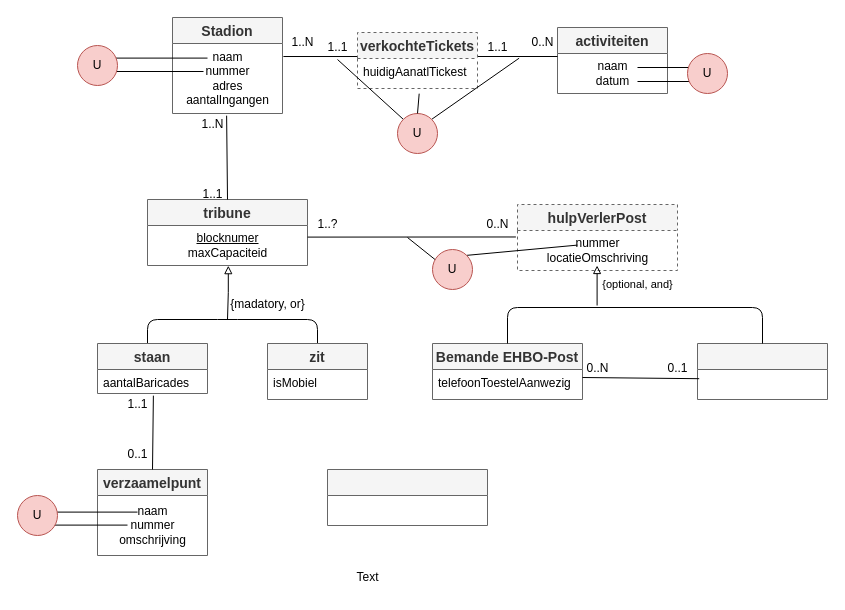
This 845x610 diagram has some shape labels left out. The shapes that lost their labels are listed below. From the top down, each one's centre as x and y in pixels, then its label:
At point (762, 371): "AED-Toestel".
At point (407, 497): "hulpVerleeniger".
